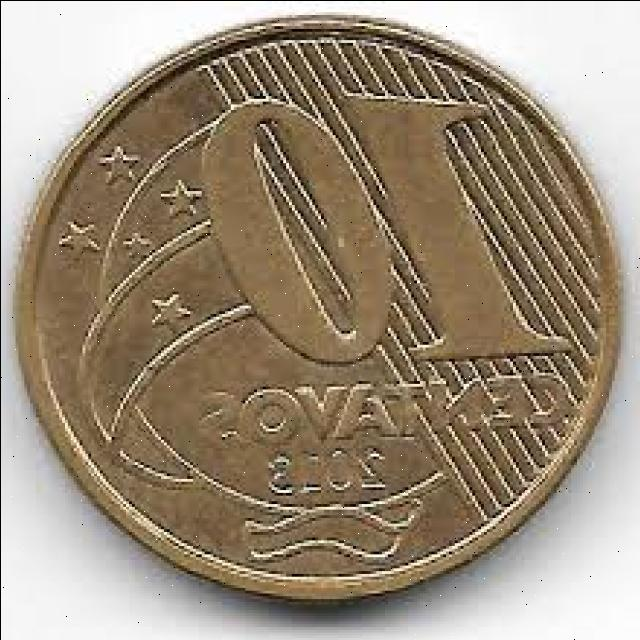10 cent: (11, 13, 618, 600)
